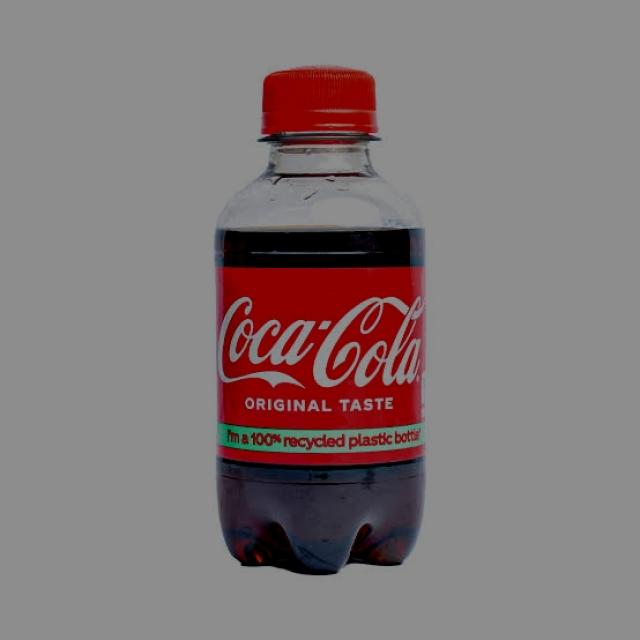plastic: (209, 58, 434, 586)
